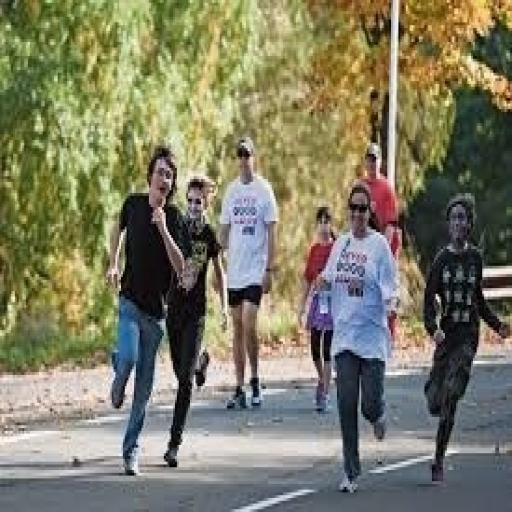running: (104, 143, 196, 478), (307, 182, 402, 495), (419, 190, 510, 490), (158, 170, 229, 472), (216, 132, 281, 414)
